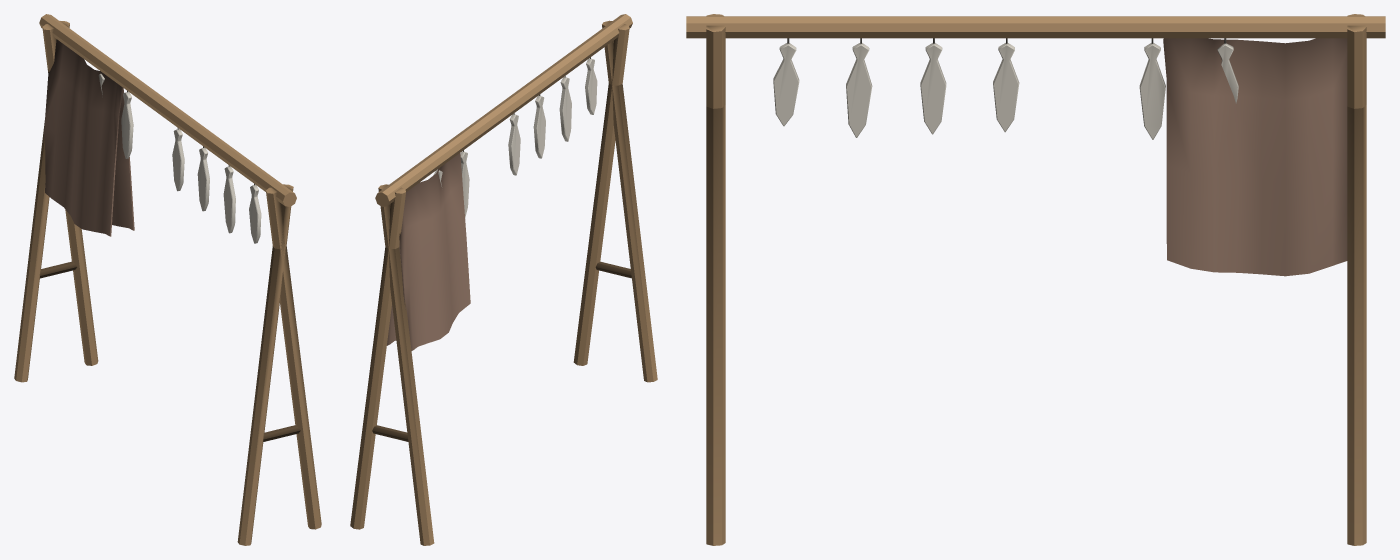
File: rack_dry.glb
3 views of the same model, side by side, from view 1: azimuth 30°, elevation 25°; view 2: azimuth 150°, elevation 25°; view 3: azimuth 270°, elevation 25° (orthographic). The views are drawn at different scales.
Visible parts, largest first — view 1: PART; view 2: PART; view 3: PART.
Boxes of the visible parts, box(x1,y1,x2,y2) form: PART: box(14, 14, 321, 545); PART: box(350, 14, 657, 545); PART: box(686, 14, 1385, 545).
Bounding box in the file's own units: 0.4677 × 1.9 × 2.4.
